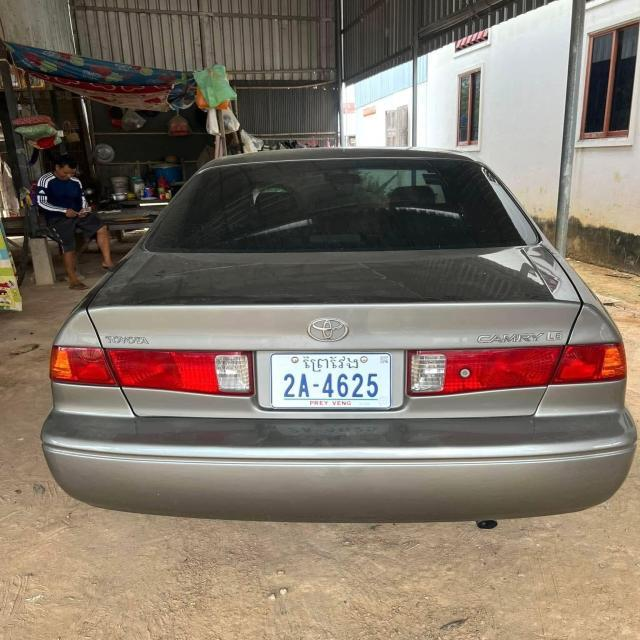Prey_Veng: (299, 355, 364, 374)
